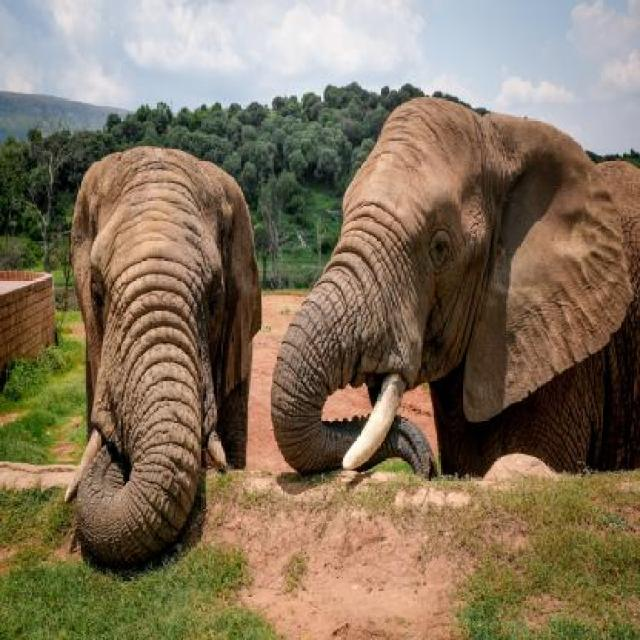Elephant: (266, 85, 640, 517), (60, 136, 268, 555)
